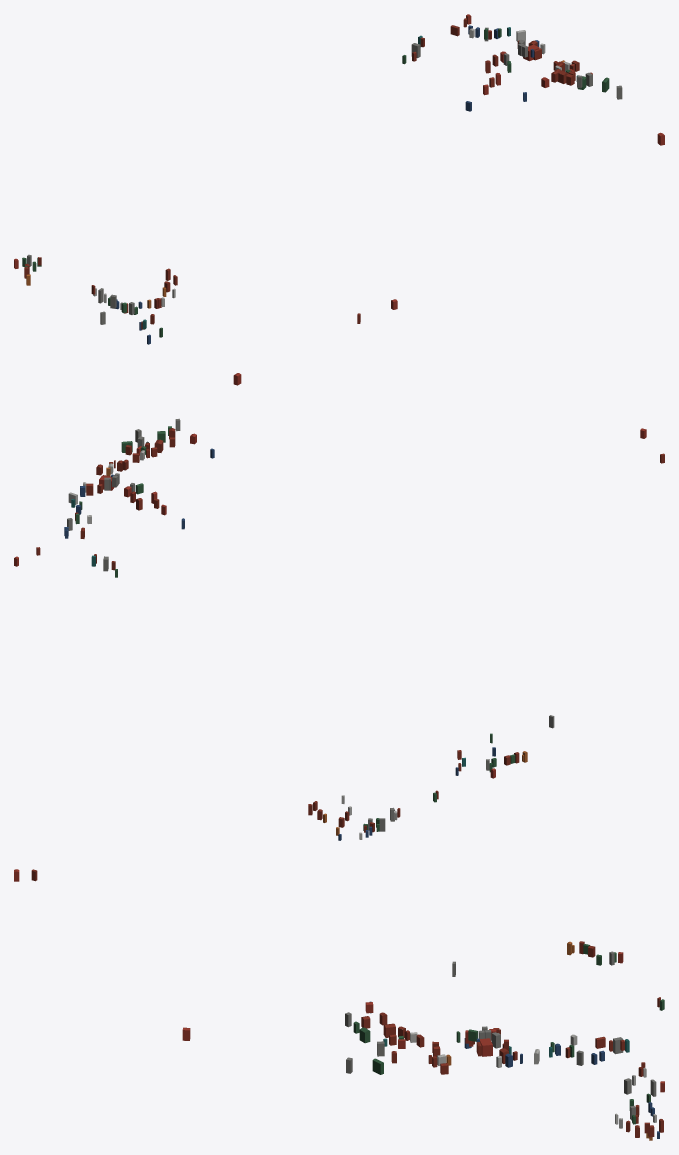
Rendered from near-15-27366-14876.2619a31c.glb.
3 views of the same model, one above another, from view 1: azimuth 30°, elevation 25°; view 2: azimuth 150°, elevation 25°; view 3: azimuth 270°, elevation 25° (orthographic). The views are drawn at different scales.
Size of the model in its own units: 1158 by 571 by 1151.
